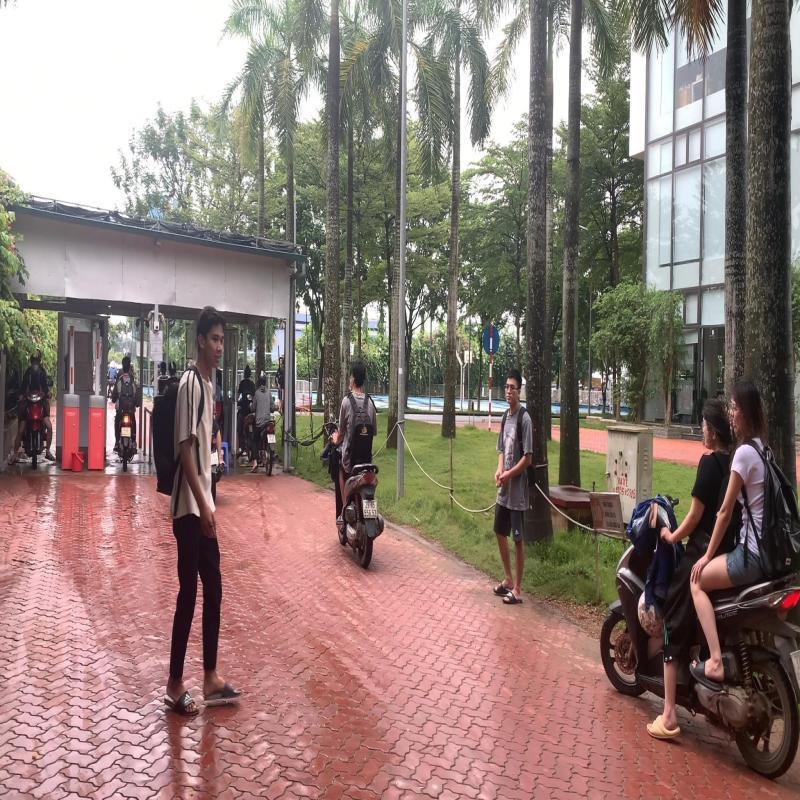nohelmet: (726, 375, 765, 437), (698, 395, 732, 454), (350, 358, 368, 393), (121, 355, 131, 373)
